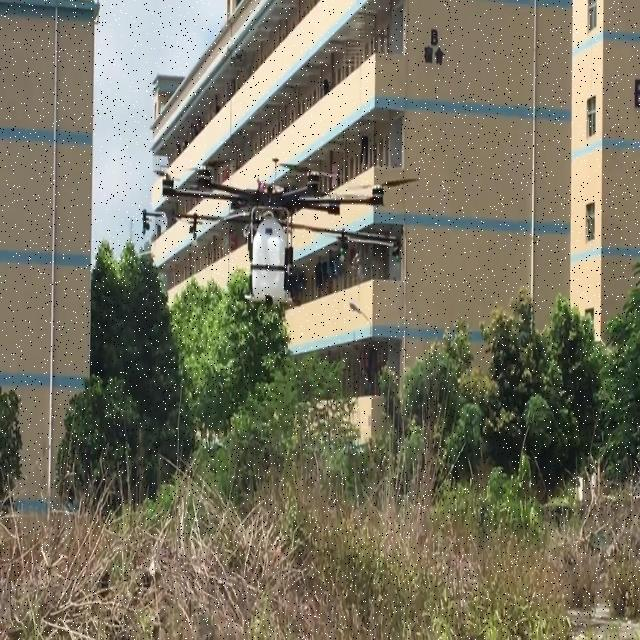UAV: (142, 160, 420, 305)
